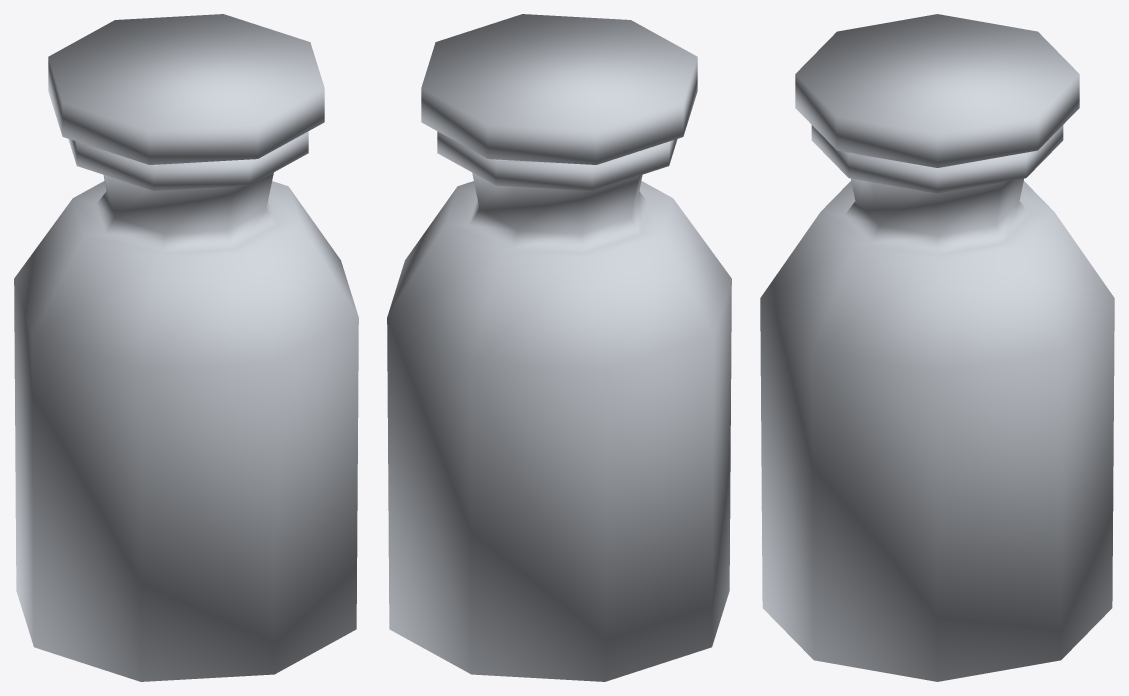
File: bottle_glassware_reagent_bottle_small.fbx
The picture shows the model from 3 angles, left to right: view 1: azimuth 30°, elevation 25°; view 2: azimuth 150°, elevation 25°; view 3: azimuth 270°, elevation 25°; orthographic projection.
Visible parts, largest first — view 1: bottle_glassware_reagent_bottle_small, bottle_glassware_reagant_bottle_cap; view 2: bottle_glassware_reagent_bottle_small, bottle_glassware_reagant_bottle_cap; view 3: bottle_glassware_reagent_bottle_small, bottle_glassware_reagant_bottle_cap.
Boxes of the visible parts, left/top/right/bottom form: bottle_glassware_reagent_bottle_small: left=14, top=131, right=358, bottom=681; bottle_glassware_reagant_bottle_cap: left=48, top=14, right=324, bottom=164; bottle_glassware_reagent_bottle_small: left=387, top=131, right=731, bottom=681; bottle_glassware_reagant_bottle_cap: left=421, top=14, right=697, bottom=164; bottle_glassware_reagent_bottle_small: left=760, top=125, right=1114, bottom=681; bottle_glassware_reagant_bottle_cap: left=795, top=14, right=1079, bottom=167.
Bounding box in the file's own units: 714 × 1187 × 714.
Materials: 1 (1 with a texture image).
